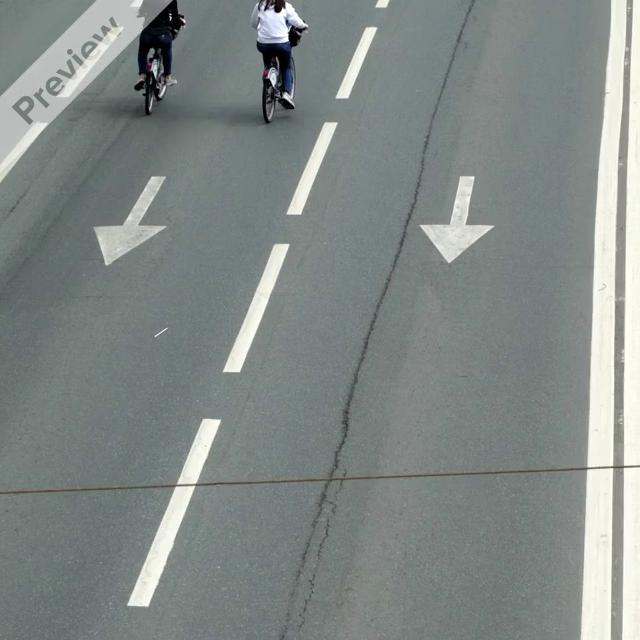bicycle: (260, 24, 307, 123), (141, 16, 186, 115)
